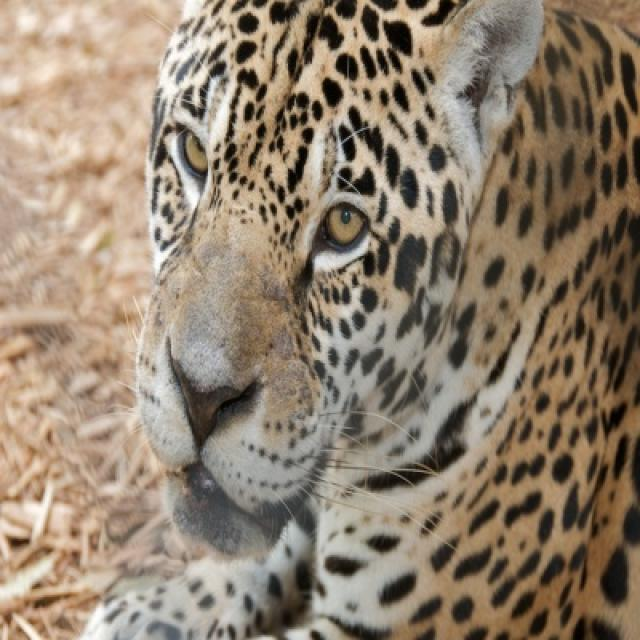Jaguar: (75, 0, 638, 638)
